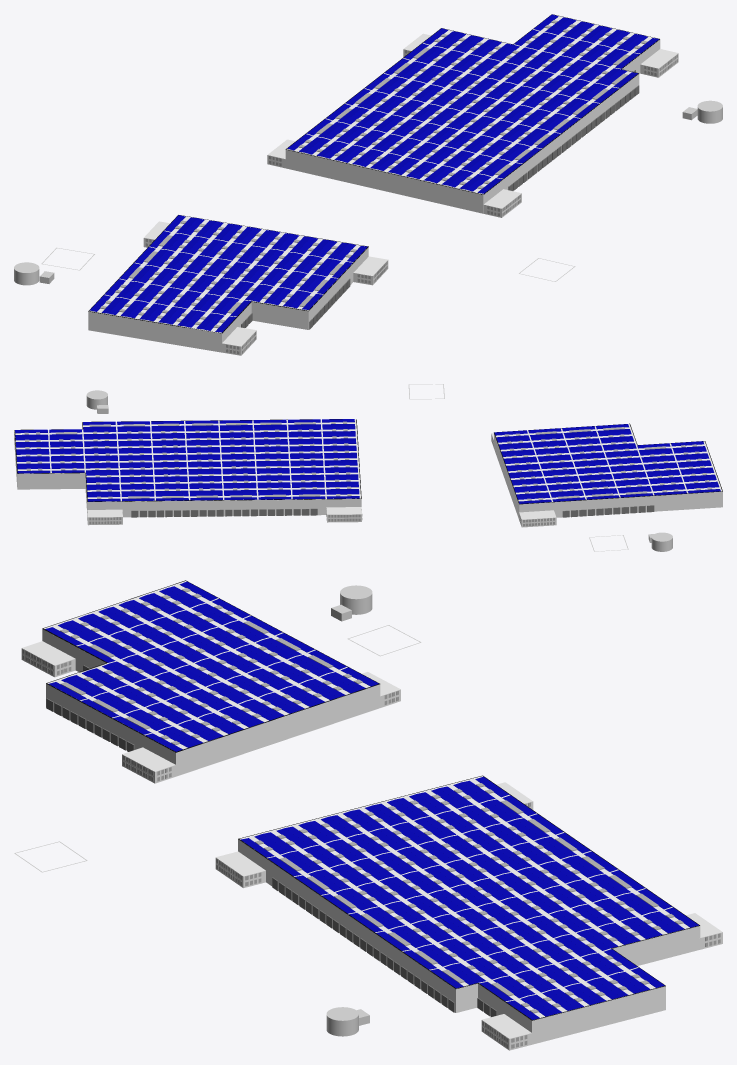
Rendered from industrialModelExample.glb.
3 views of the same model, one above another, from view 1: azimuth 30°, elevation 25°; view 2: azimuth 150°, elevation 25°; view 3: azimuth 270°, elevation 25° (orthographic). The views are drawn at different scales.
Visible parts, largest first — view 1: SolarPanel, Roof, WarehouseFacade, WindowSquare, OfficeFacade, Dock, RoofAttic, WindowLong, SafetyInfrastructure, OfficeWindow; view 2: SolarPanel, Roof, WarehouseFacade, WindowSquare, Dock, OfficeFacade, WindowLong, RoofAttic, SafetyInfrastructure, OfficeWindow; view 3: SolarPanel, Roof, WarehouseFacade, WindowSquare, OfficeFacade, Dock, WindowLong, RoofAttic, SafetyInfrastructure, OfficeWindow.
Boxes of the visible parts, x1,y1,x2,y2 form: SolarPanel: [90, 14, 658, 332]; Roof: [89, 16, 651, 333]; WarehouseFacade: [88, 39, 660, 352]; WindowSquare: [100, 20, 647, 327]; OfficeFacade: [143, 33, 678, 355]; Dock: [241, 70, 639, 329]; RoofAttic: [88, 14, 659, 333]; WindowLong: [129, 47, 629, 313]; SafetyInfrastructure: [14, 100, 722, 285]; OfficeWindow: [145, 50, 677, 354]; SolarPanel: [15, 419, 720, 503]; Roof: [15, 419, 721, 501]; WarehouseFacade: [14, 426, 722, 518]; WindowSquare: [24, 421, 711, 500]; Dock: [131, 505, 654, 517]; OfficeFacade: [14, 430, 556, 527]; WindowLong: [55, 422, 665, 498]; RoofAttic: [14, 419, 722, 504]; SafetyInfrastructure: [86, 390, 672, 551]; OfficeWindow: [14, 432, 554, 526]; SolarPanel: [45, 581, 698, 1019]; Roof: [44, 581, 689, 1017]; WarehouseFacade: [42, 629, 700, 1044]; WindowSquare: [60, 588, 683, 1013]; OfficeFacade: [21, 641, 722, 1050]; Dock: [46, 665, 497, 1016]; WindowLong: [61, 621, 658, 996]; RoofAttic: [42, 580, 699, 1020]; SafetyInfrastructure: [326, 585, 372, 1036]; OfficeWindow: [22, 649, 720, 1048].
Size of the model in its own units: 4.92 by 0.125 by 3.28.
